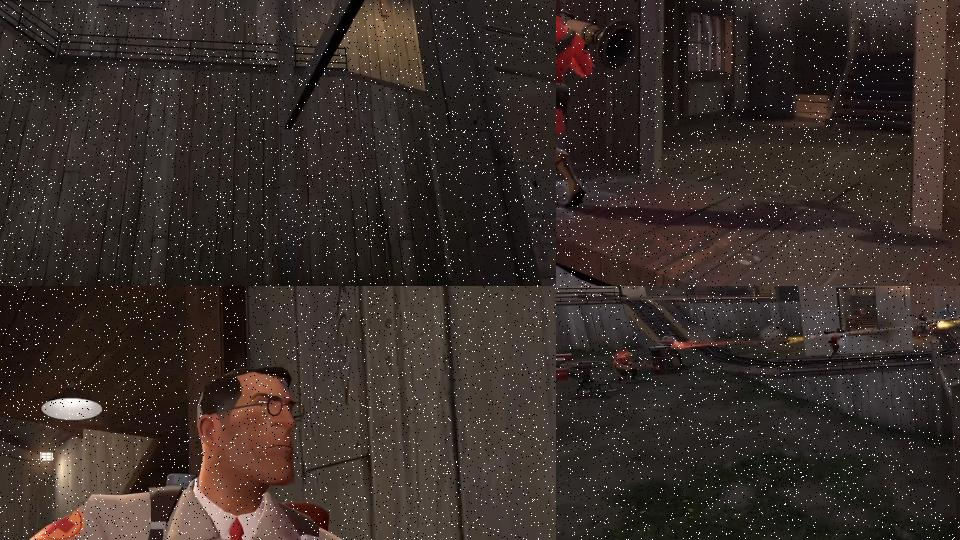Enemy: (0, 357, 450, 540), (556, 0, 638, 209), (823, 326, 854, 362), (660, 330, 688, 369), (613, 351, 644, 384), (917, 312, 939, 335)
